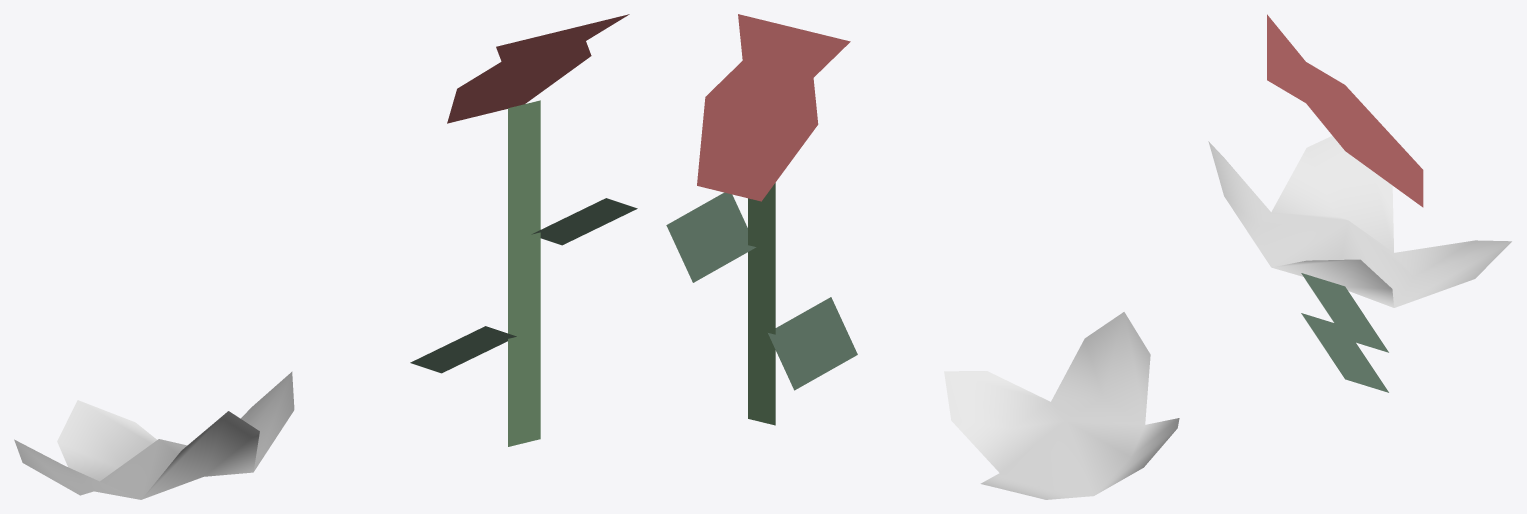
File: decor_flowers.fbx
The picture shows the model from 3 angles, left to right: view 1: azimuth 30°, elevation 25°; view 2: azimuth 150°, elevation 25°; view 3: azimuth 270°, elevation 25°; orthographic projection. The views are drawn at different scales.
Parts seen in each view (by area): view 1: Rose, White Flower; view 2: Rose, White Flower; view 3: White Flower, Rose.
Boxes of the visible parts, left/top/right/bottom form: Rose: left=410, top=14, right=637, bottom=446; White Flower: left=14, top=371, right=294, bottom=499; Rose: left=666, top=14, right=857, bottom=425; White Flower: left=944, top=312, right=1179, bottom=499; White Flower: left=1208, top=136, right=1511, bottom=307; Rose: left=1267, top=14, right=1423, bottom=392.
Size of the model in its own units: 0.7616 by 0.5208 by 0.323.
